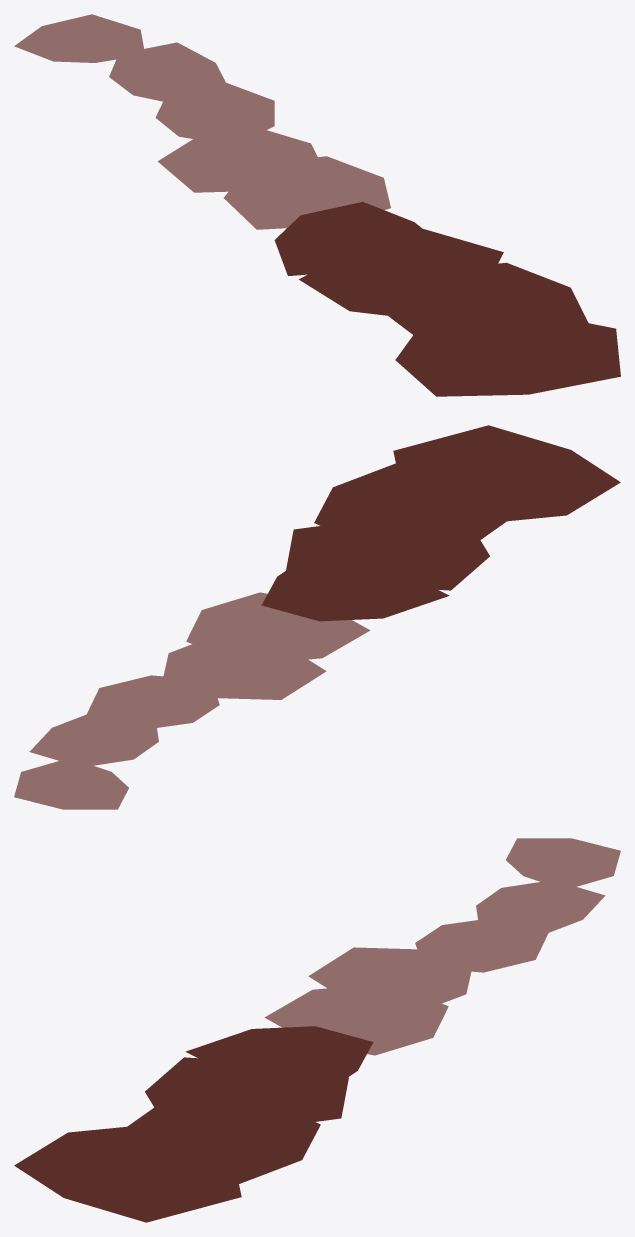
Rendered from drag_mark.glb.
3 renders of one model, top to bottom at view 1: azimuth 30°, elevation 25°; view 2: azimuth 150°, elevation 25°; view 3: azimuth 330°, elevation 25°, orthographic.
Parts seen in each view (by area): view 1: drag_mark; view 2: drag_mark; view 3: drag_mark.
Part boxes in pixels (left/top/right/bottom): drag_mark: left=14, top=14, right=620, bottom=396; drag_mark: left=14, top=425, right=620, bottom=809; drag_mark: left=14, top=838, right=620, bottom=1222.
Size of the model in its own units: 0.9804 by 0.001 by 4.03.
